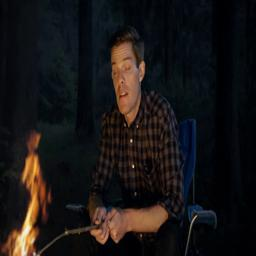fire: (2, 131, 50, 256)
